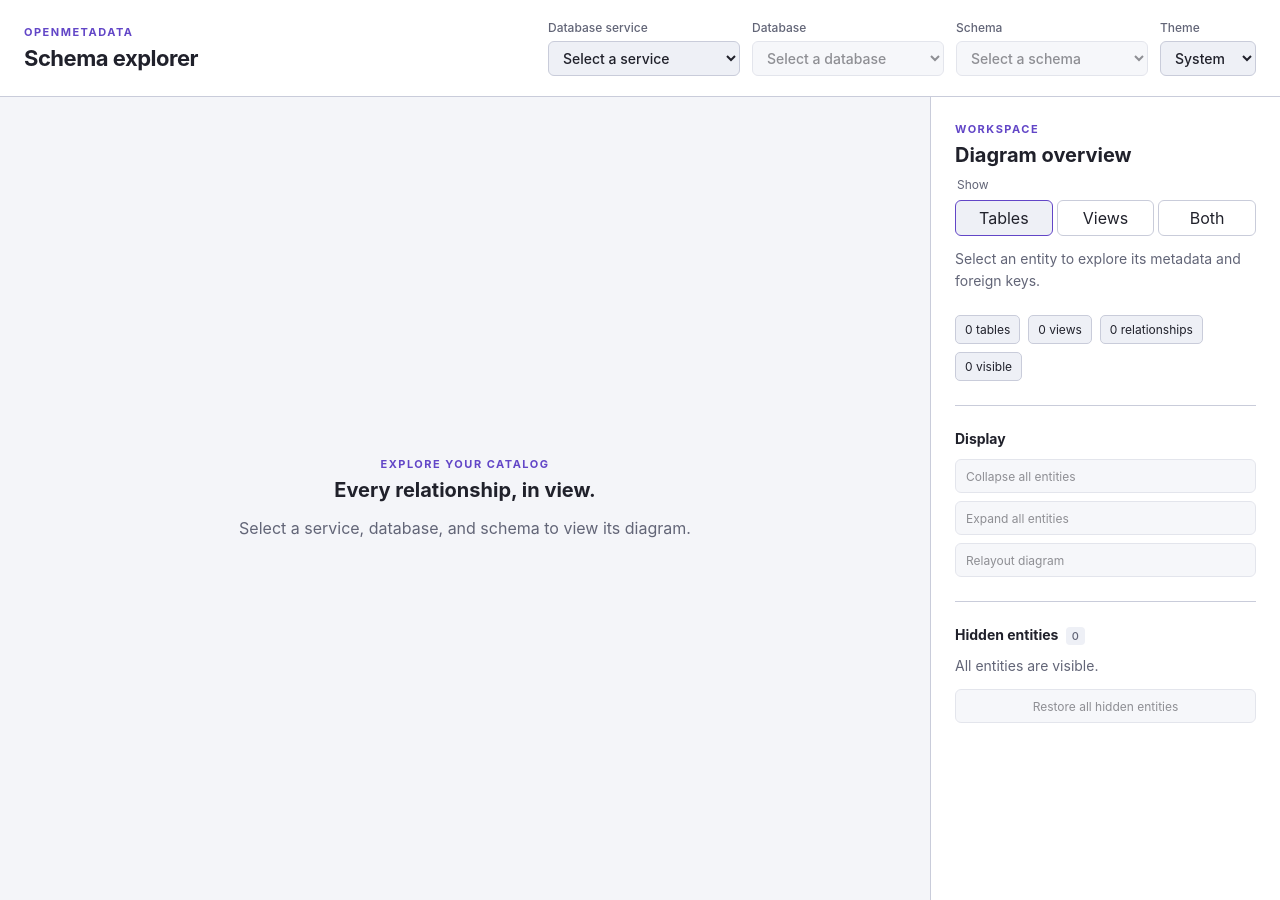
Test: ERD canvas interactions › clears the App selection when switching to a schema with no tables
Select "Service" in the dropdown labelled "Database service" at (644, 58), box top-left (548, 41), bottom-right (740, 76)
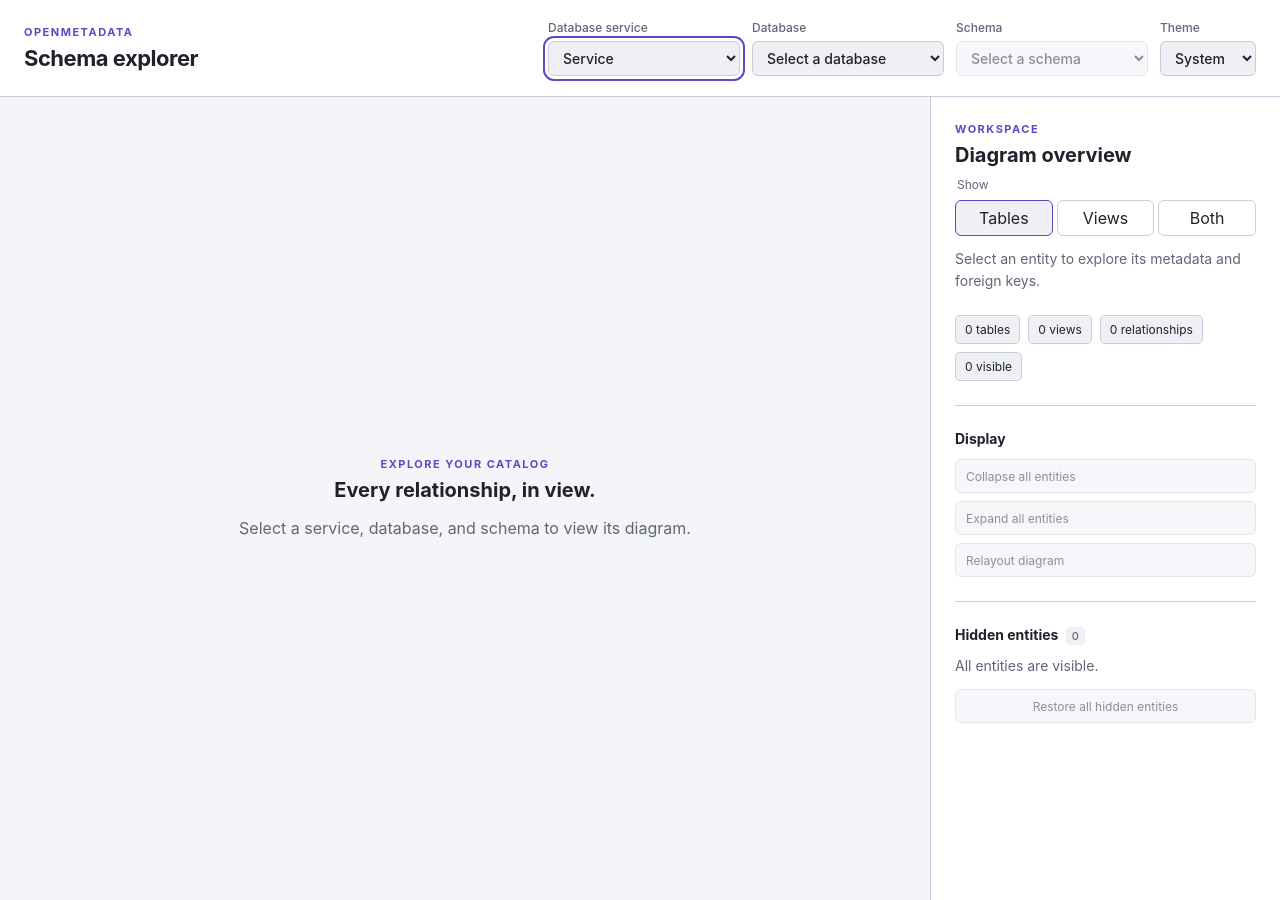
Select "Database" in the dropdown labelled "Database" at (848, 58), box top-left (752, 41), bottom-right (944, 76)
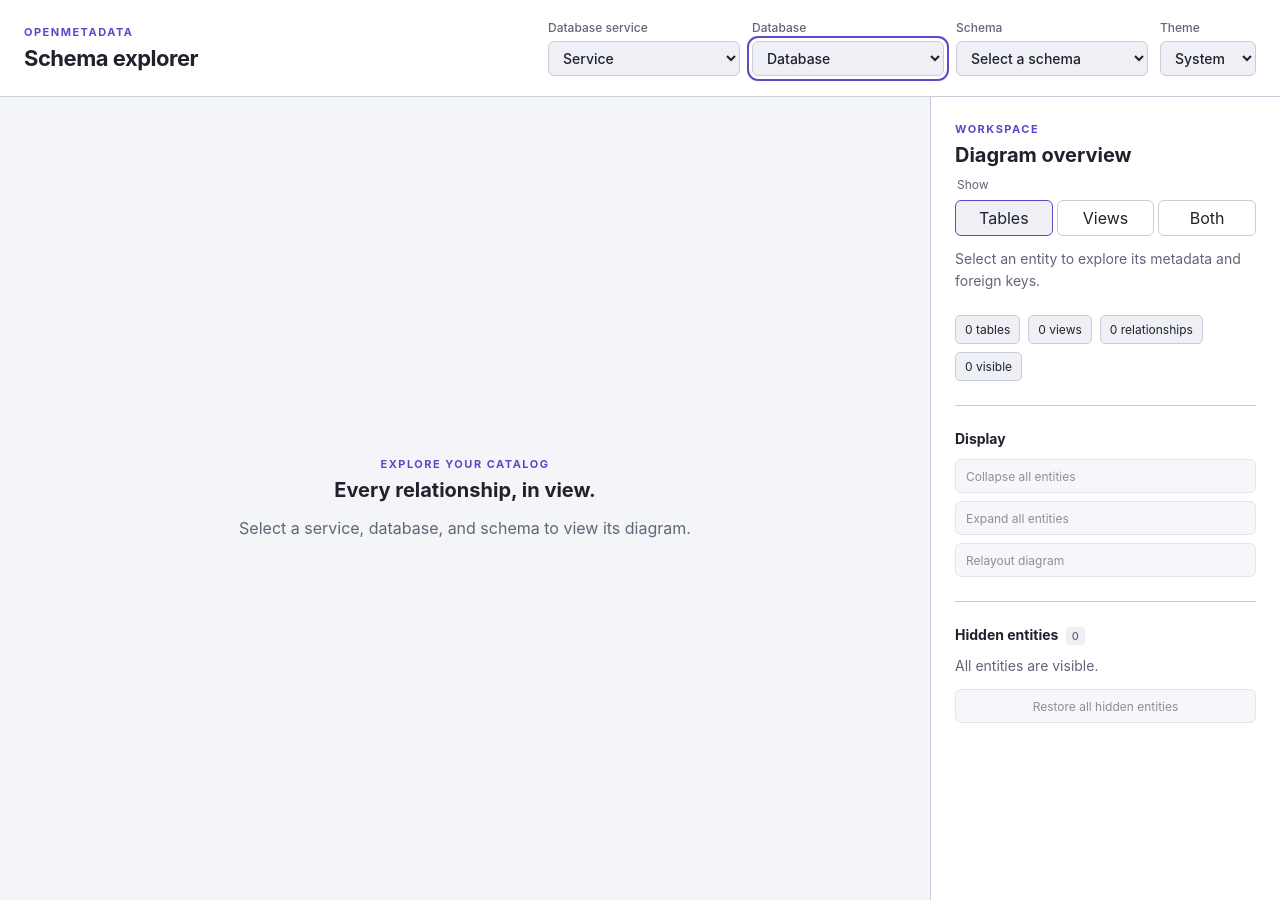
Select "Sales" in the dropdown labelled "Schema" at (1052, 58), box top-left (956, 41), bottom-right (1148, 76)
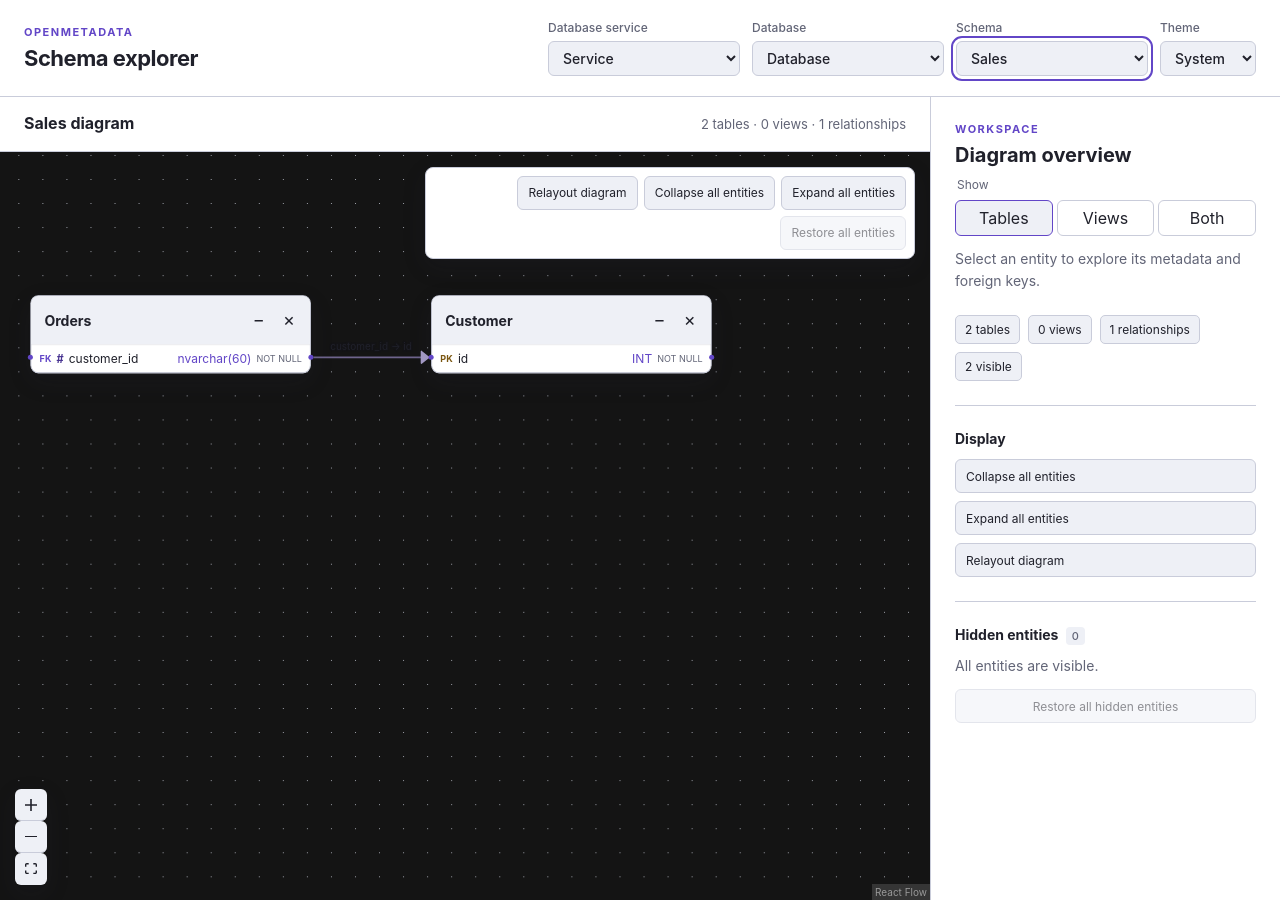
Click the button with aria-label "Select Orders" at (141, 320), box top-left (39, 306), bottom-right (242, 334)
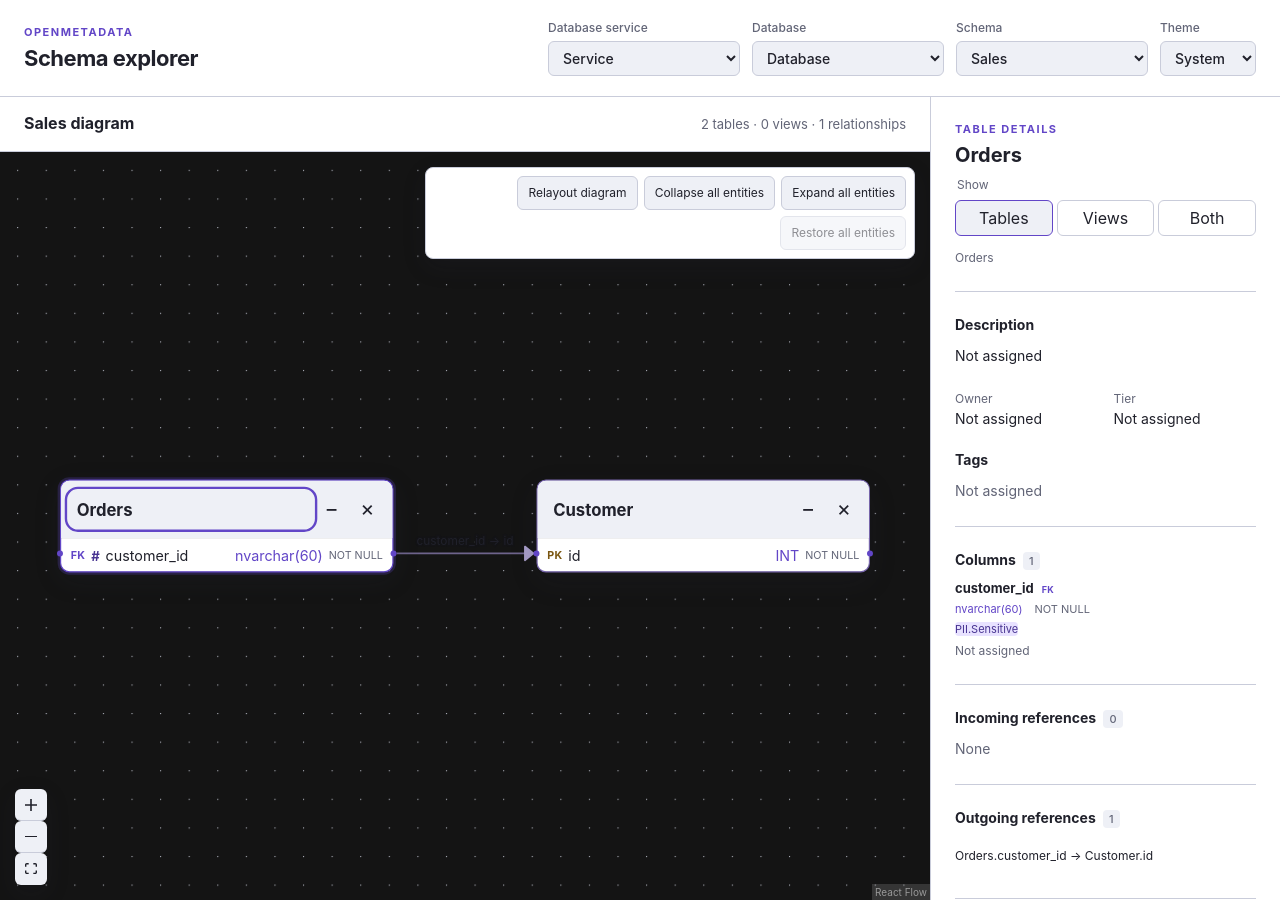
Now the element named "Selected table" shows "Orders", box top-left (955, 143), bottom-right (1022, 167)
Select "Empty" in the dropdown labelled "Schema" at (1052, 58), box top-left (956, 41), bottom-right (1148, 76)
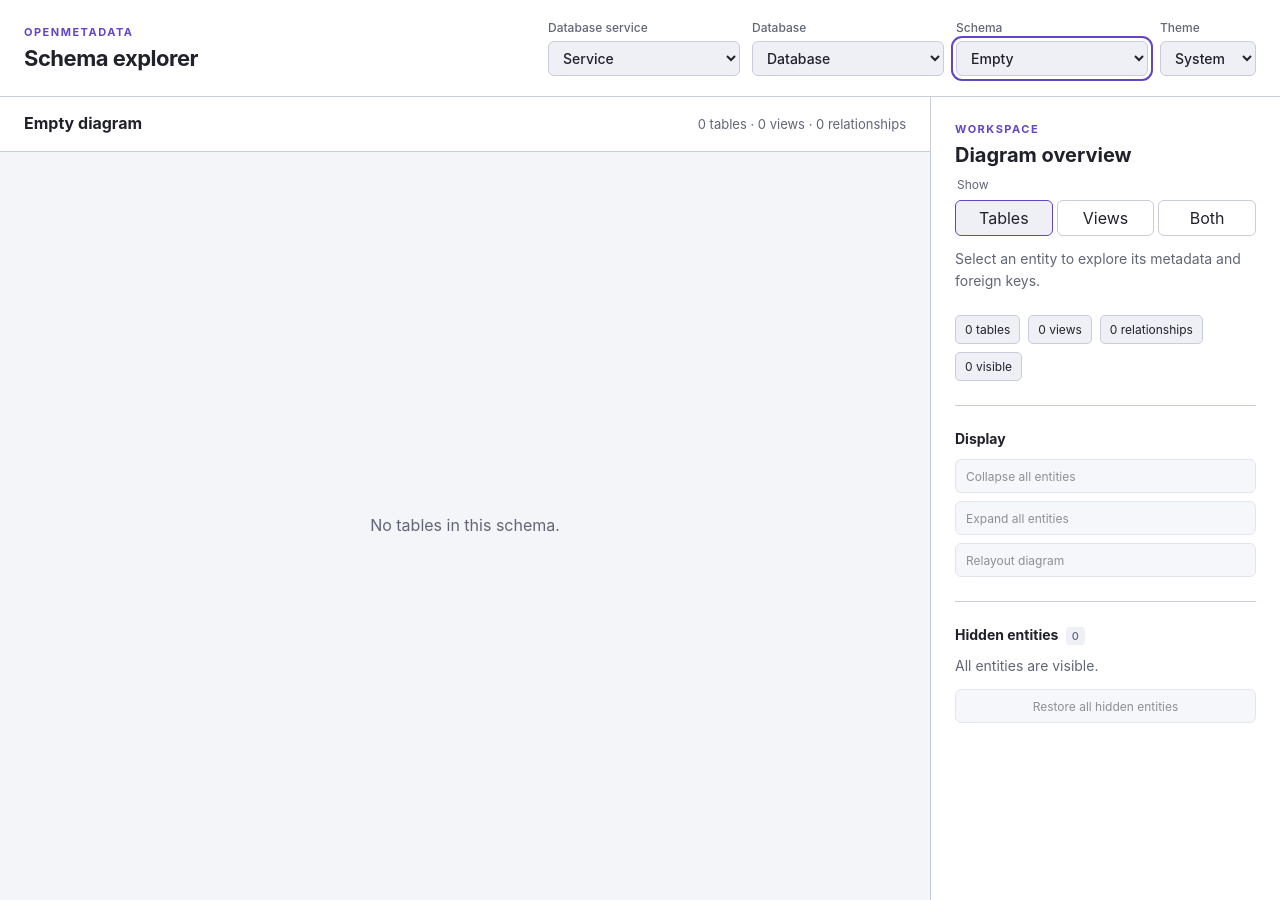
Now the text "No tables in this schema." is shown, box top-left (370, 513), bottom-right (560, 538)
